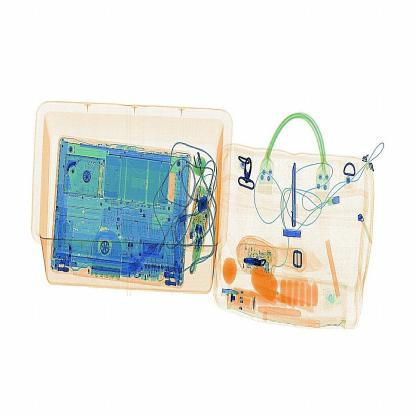pliers: (282, 157, 307, 232)
